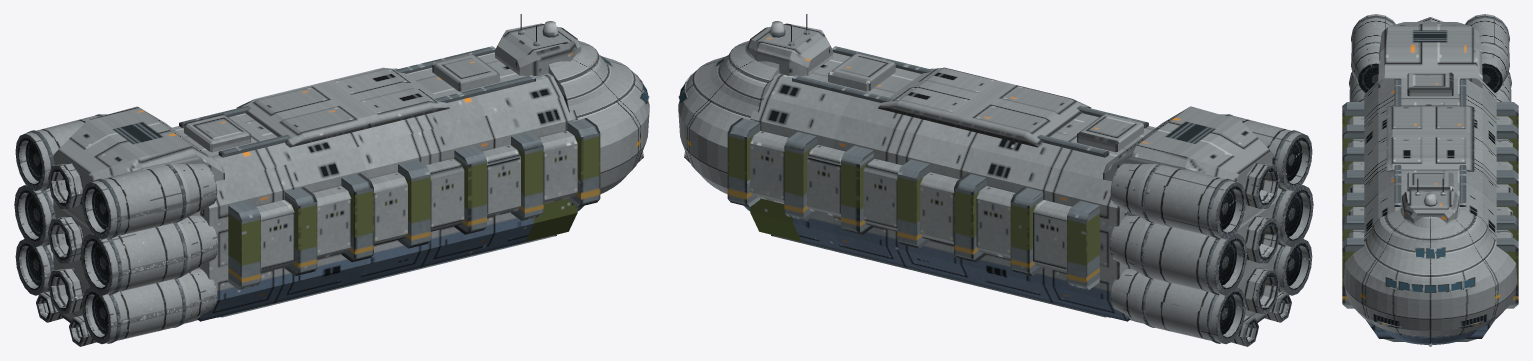
Rendered from atlas.glb.
3 renders of one model, left to right at view 1: azimuth 30°, elevation 25°; view 2: azimuth 150°, elevation 25°; view 3: azimuth 270°, elevation 25°, orthographic. The views are drawn at different scales.
Parts seen in each view (by area): view 1: atlas · fitted hull; view 2: atlas · fitted hull; view 3: atlas · fitted hull.
Part boxes in pixels (left/top/right/bottom): atlas · fitted hull: left=14, top=14, right=649, bottom=346; atlas · fitted hull: left=678, top=14, right=1313, bottom=346; atlas · fitted hull: left=1342, top=14, right=1518, bottom=346.
Bounding box in the file's own units: 2.02 × 0.675 × 0.652.
Materials: 6 (3 with a texture image).
